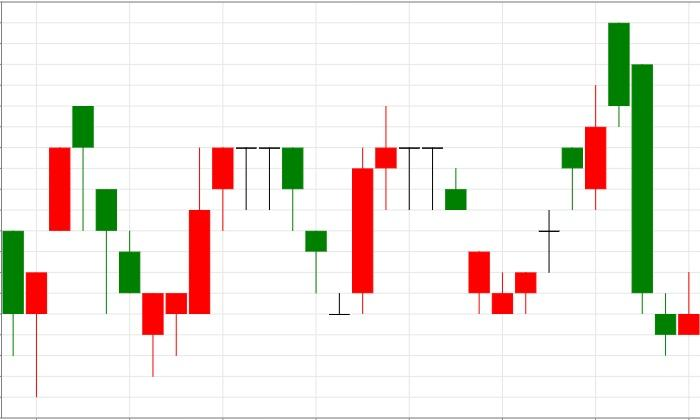hanging_man_fall: (25, 105, 94, 398), (492, 147, 584, 314)
inverse_hammer_rise: (608, 23, 700, 356)
three_black_crows_fall: (25, 105, 141, 398)
